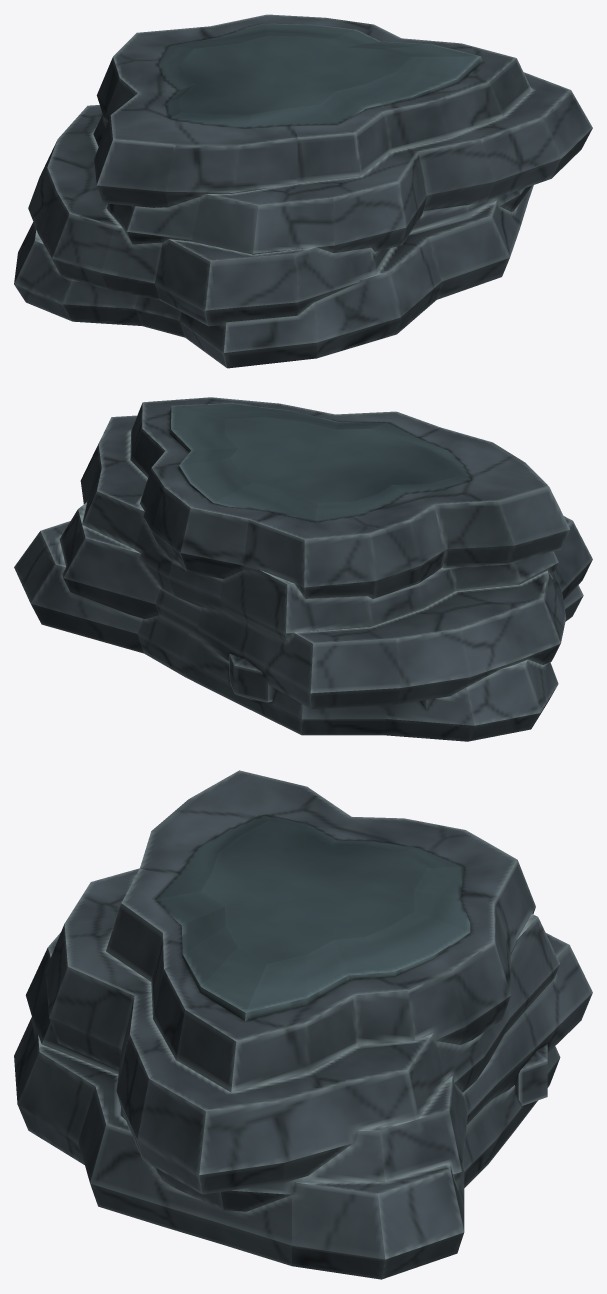
File: underworld-flora-blackwater-wet-stone.glb
3 views of the same model, one above another, from view 1: azimuth 30°, elevation 25°; view 2: azimuth 150°, elevation 25°; view 3: azimuth 270°, elevation 25° (orthographic). The views are drawn at different scales.
Visible parts, largest first — view 1: stone, mineral-crust; view 2: stone, mineral-crust, detached-chips; view 3: stone, mineral-crust, detached-chips.
Boxes of the visible parts, box(x1,y1,x2,y2) form: stone: box(14, 14, 592, 368); mineral-crust: box(157, 23, 482, 127); stone: box(14, 397, 592, 741); mineral-crust: box(170, 403, 471, 522); detached-chips: box(229, 654, 434, 709); stone: box(14, 770, 592, 1279); mineral-crust: box(155, 815, 470, 1020); detached-chips: box(515, 1044, 547, 1105).
Bounding box in the file's own units: 1.47 × 0.5254 × 1.12.
Materials: 2 (2 with a texture image).
